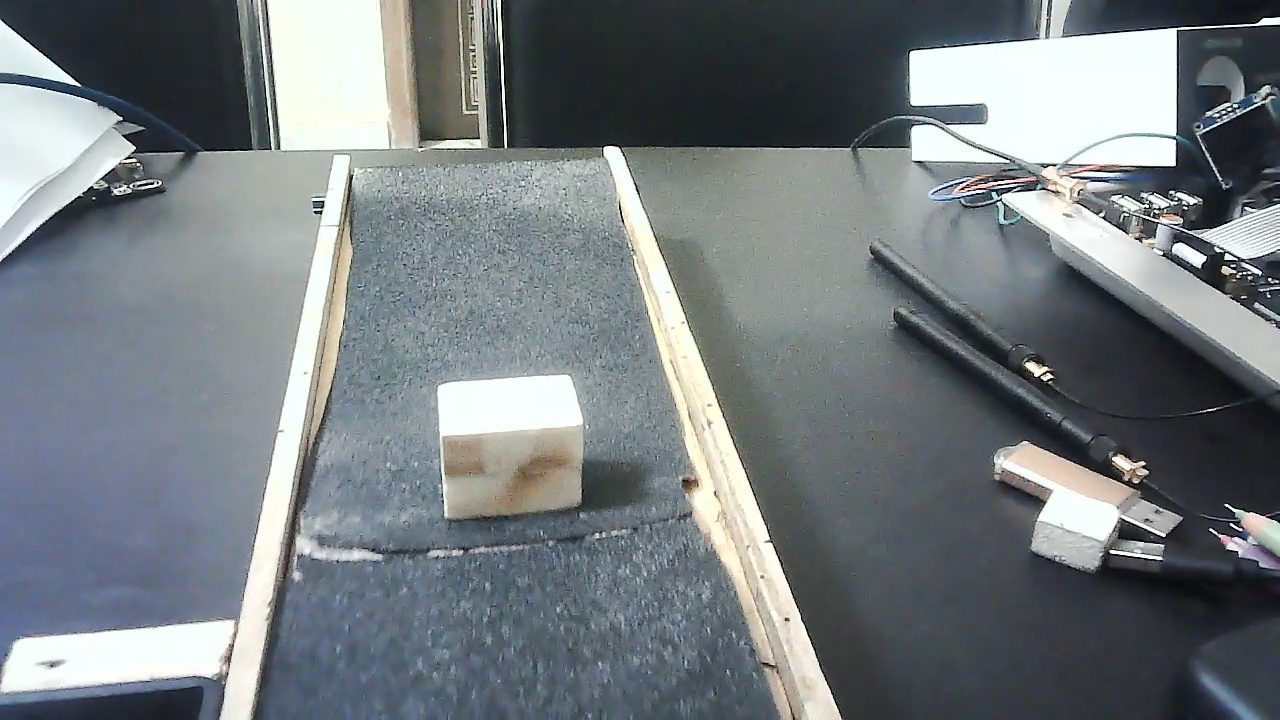Medium: (437, 374, 584, 521)
